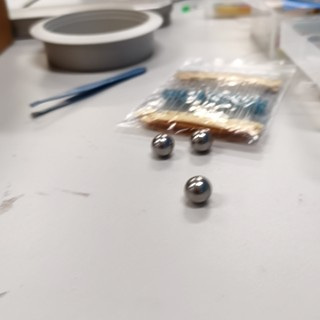ironball: (165, 169, 218, 217), (140, 119, 176, 163), (186, 117, 212, 157)
